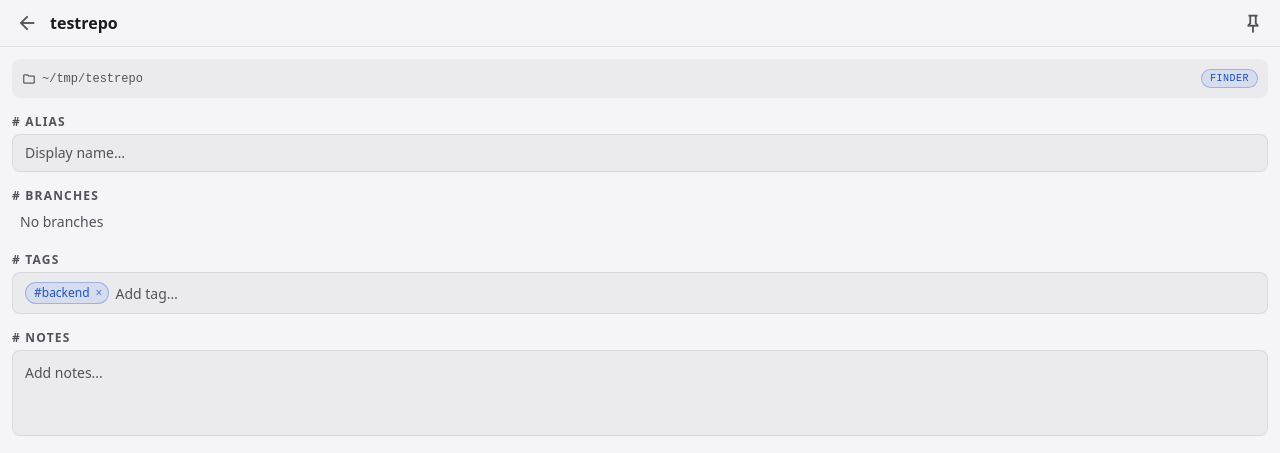
Test: DetailPane › tag_suggestions_exclude_tags_already_on_repo
Type "fr" into the field with placeholder "Add tag…".
click(685, 294); type("fr")  # box top-left (116, 284), bottom-right (1255, 304)
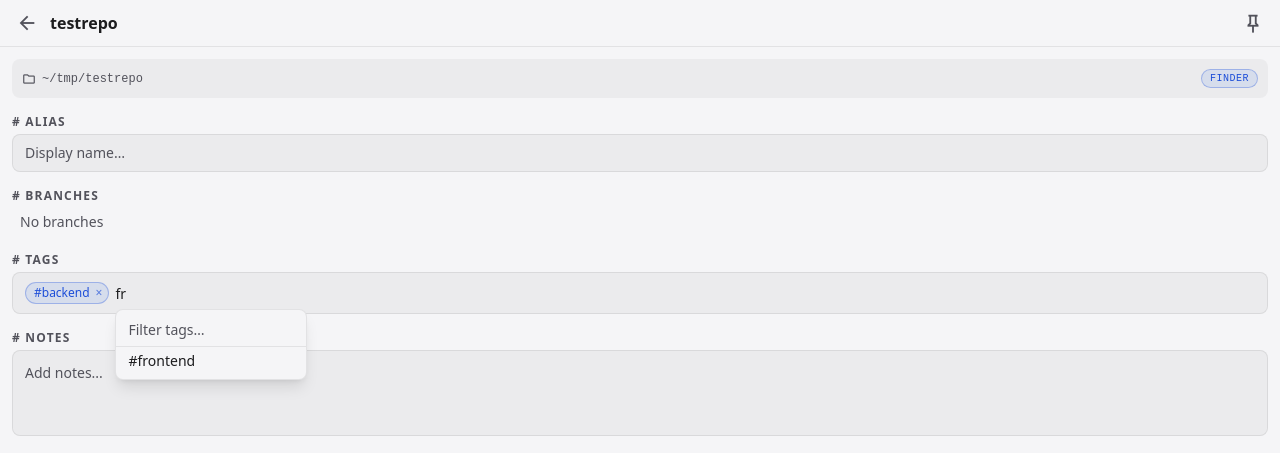
Expected: the option "#frontend" is shown, top-left (128, 351), bottom-right (195, 370)
